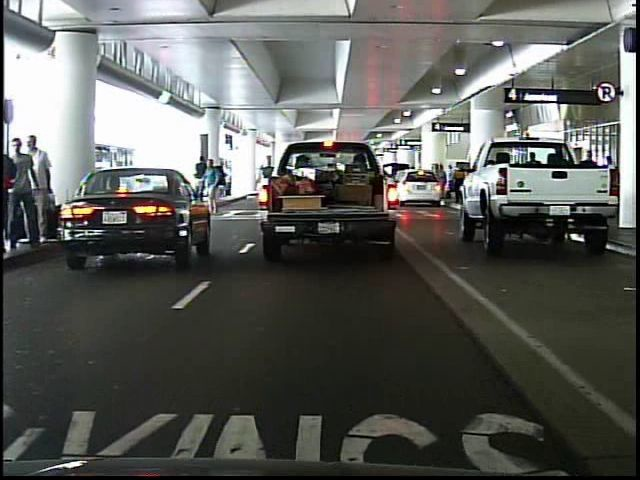person: (31, 134, 58, 248), (9, 136, 34, 252), (207, 152, 229, 218), (6, 135, 7, 254)
